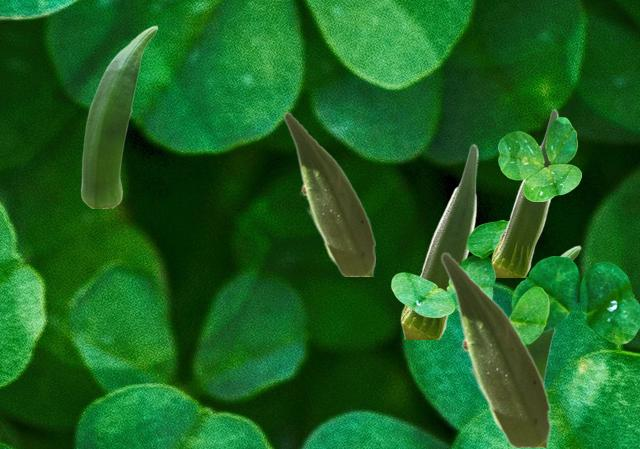okra: (440, 251, 549, 446), (400, 143, 477, 338), (283, 111, 374, 275), (80, 25, 157, 207), (491, 108, 557, 276), (527, 245, 580, 380)
